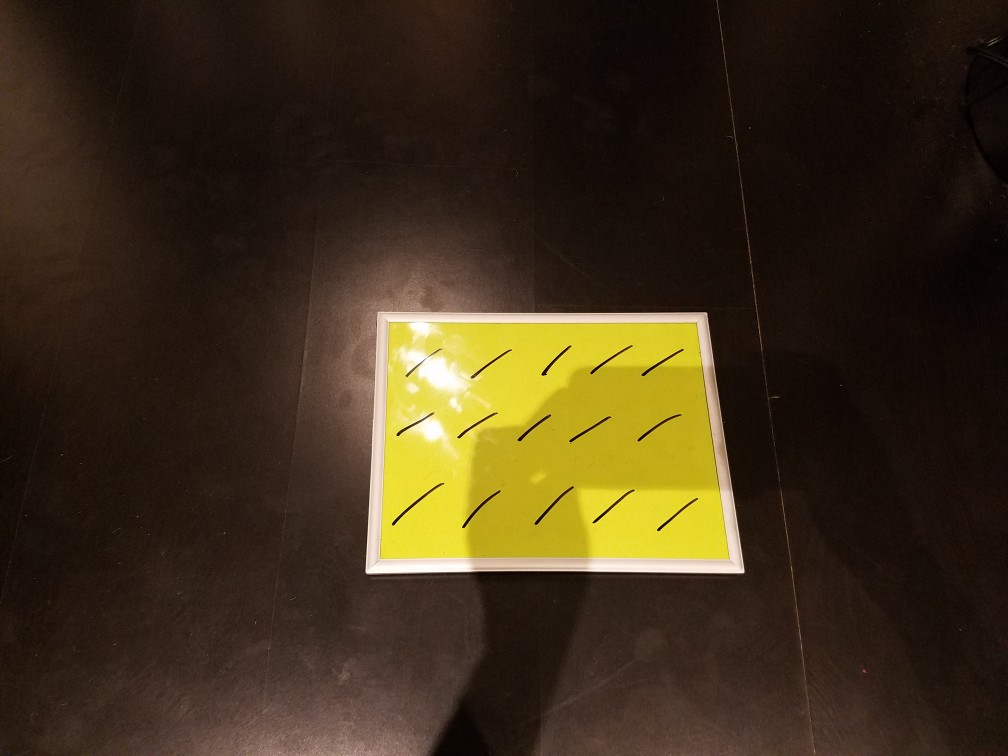/: (642, 485, 711, 544), (382, 475, 444, 532), (524, 475, 581, 535), (454, 479, 507, 539), (588, 481, 641, 535), (568, 407, 620, 453), (533, 336, 577, 388), (633, 409, 687, 451), (641, 336, 687, 382), (510, 409, 553, 454), (397, 340, 444, 380), (451, 409, 501, 446), (591, 335, 630, 381), (392, 406, 434, 446), (473, 344, 513, 383)
